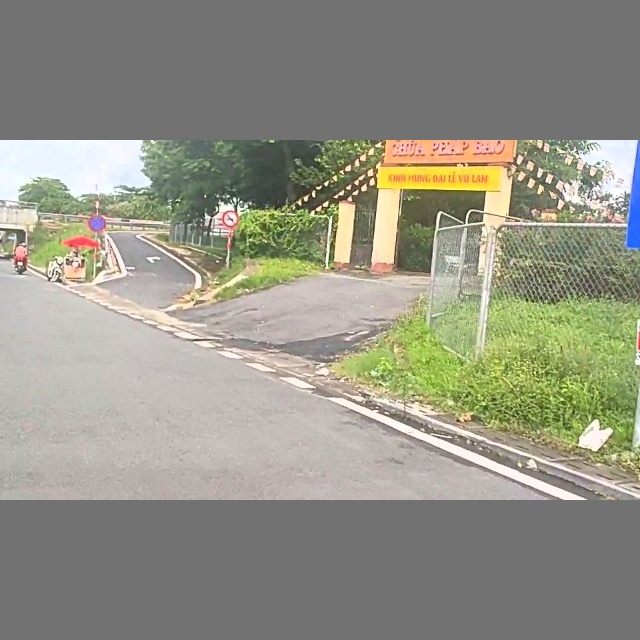P.103a: (222, 210, 239, 228)
P.130: (88, 215, 107, 232)
